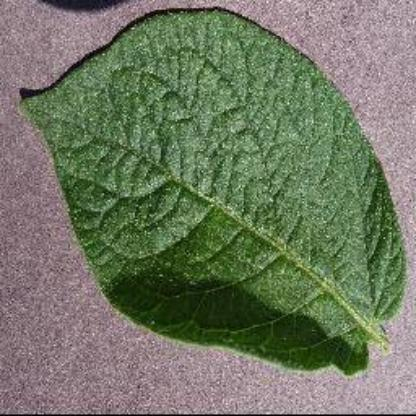Healthy-plant: (22, 26, 396, 380)
